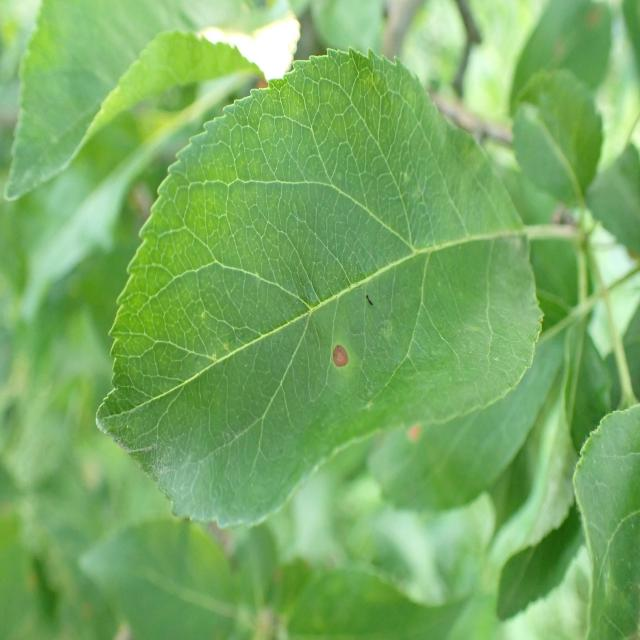Black Rot: (317, 335, 352, 385)
